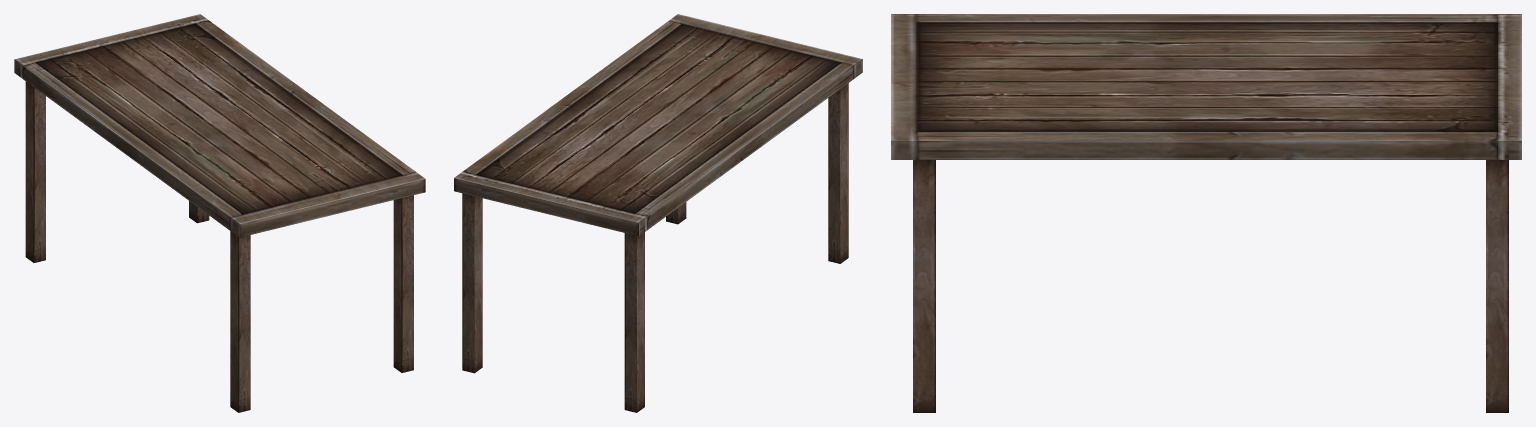
The model's file is GY_zhuozi.fbx.
3 views of the same model, side by side, from view 1: azimuth 30°, elevation 25°; view 2: azimuth 150°, elevation 25°; view 3: azimuth 270°, elevation 25° (orthographic). The views are drawn at different scales.
Parts seen in each view (by area): view 1: GY_zhuozi; view 2: GY_zhuozi; view 3: GY_zhuozi.
Boxes of the visible parts, x1=… form: GY_zhuozi: x1=14, y1=14, x2=425, y2=412; GY_zhuozi: x1=454, y1=14, x2=862, y2=412; GY_zhuozi: x1=891, y1=14, x2=1521, y2=412.
Size of the model in its own units: 129 by 130 by 271.
